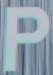Parking: (3, 3, 50, 70)
